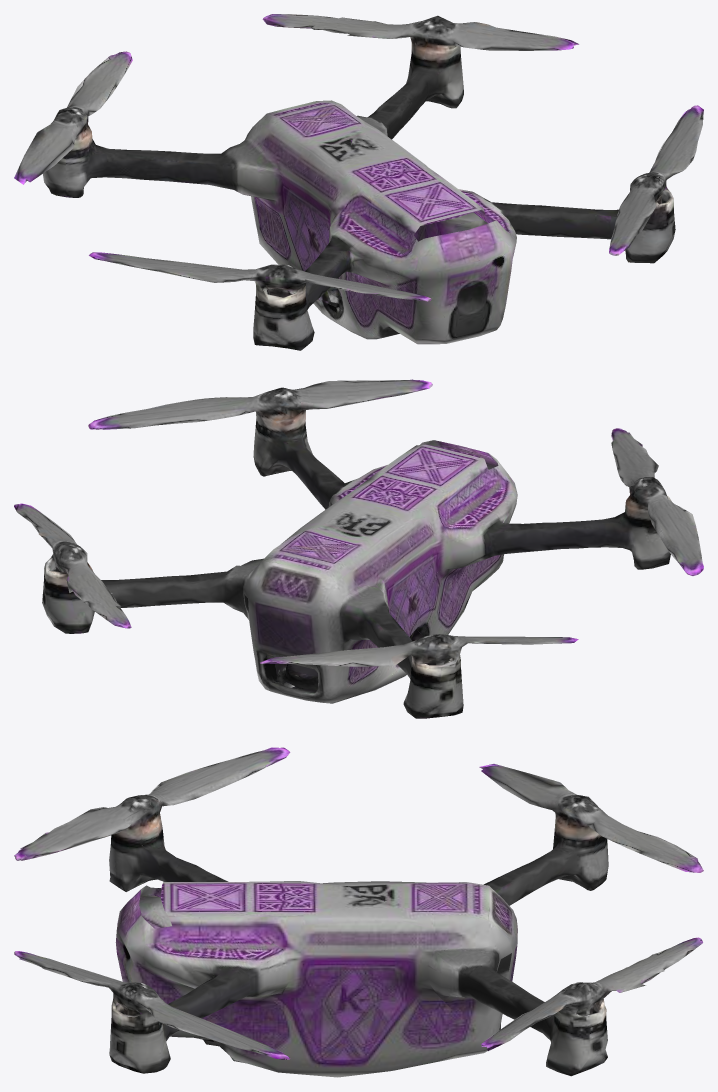
Rendered from drone.glb.
The picture shows the model from 3 angles, top to bottom: view 1: azimuth 30°, elevation 25°; view 2: azimuth 150°, elevation 25°; view 3: azimuth 270°, elevation 25°; orthographic projection. The views are drawn at different scales.
Visible parts, largest first — view 1: Meshy_Mesh0, Helice_FR, Helice_FL, Helice_BR, Helice_BL; view 2: Meshy_Mesh0, Helice_BR, Helice_BL, Helice_FL, Helice_FR; view 3: Meshy_Mesh0, Helice_BL, Helice_FL, Helice_BR, Helice_FR.
Boxes of the visible parts, x1,y1,x2,y2 form: Meshy_Mesh0: (43, 41, 675, 350); Helice_FR: (262, 14, 578, 50); Helice_FL: (14, 51, 132, 184); Helice_BR: (609, 105, 703, 255); Helice_BL: (89, 252, 431, 301); Meshy_Mesh0: (42, 411, 670, 718); Helice_BR: (88, 379, 432, 429); Helice_BL: (611, 428, 703, 575); Helice_FL: (260, 634, 578, 669); Helice_FR: (14, 503, 131, 628); Meshy_Mesh0: (109, 813, 608, 1077); Helice_BL: (14, 747, 290, 860); Helice_FL: (479, 764, 703, 872); Helice_BR: (14, 951, 290, 1059); Helice_FR: (481, 937, 702, 1050).
Bounding box in the file's own units: 1.9 × 0.4864 × 1.78.
1 material, 1 textured.
